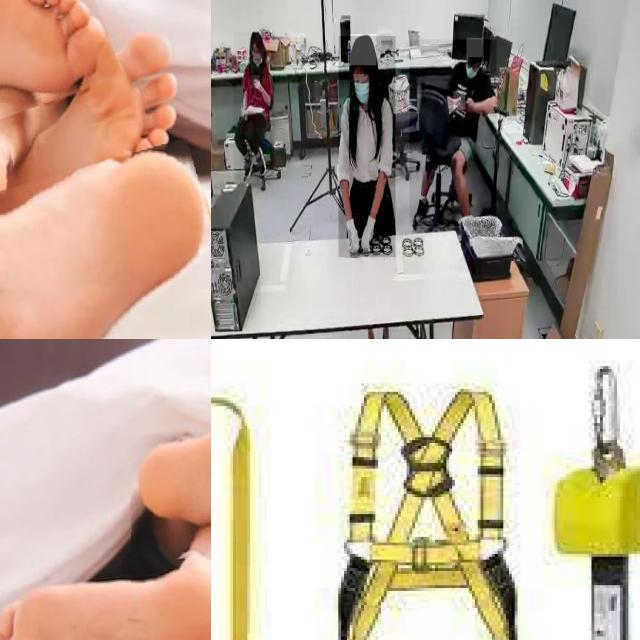Barefoots: (0, 146, 211, 339), (0, 0, 121, 141), (0, 565, 211, 640), (120, 404, 211, 570)
Harness: (327, 387, 529, 640)
face_mask: (351, 74, 371, 111)
hand_glove: (345, 213, 361, 263), (363, 213, 377, 256)
hand_noglove: (454, 91, 466, 111), (462, 95, 474, 114), (240, 103, 248, 121), (251, 75, 261, 89)
head_nohelmet: (350, 34, 377, 66), (466, 38, 484, 58), (249, 30, 263, 44)
person: (409, 39, 497, 227), (338, 36, 396, 258), (233, 32, 275, 181)
shoes: (412, 192, 430, 225), (240, 148, 254, 180), (254, 147, 267, 175)
